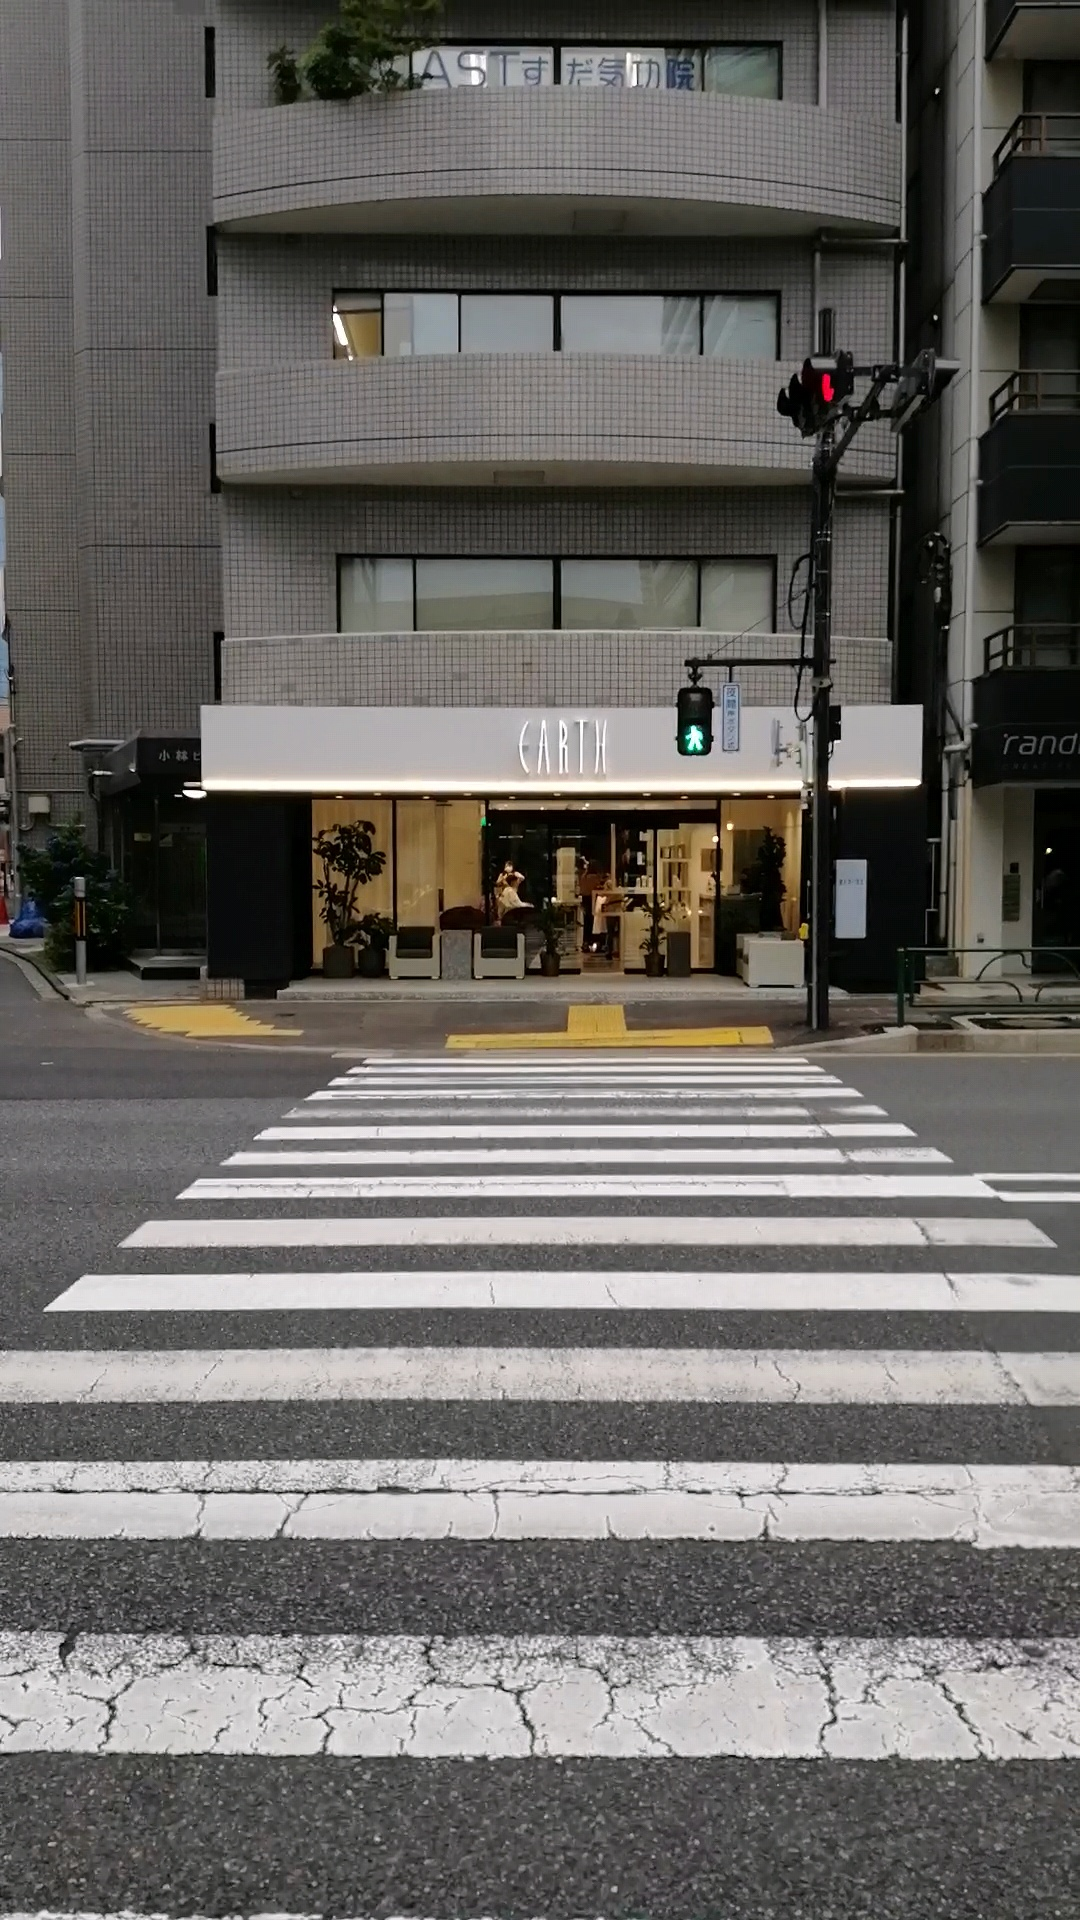green: (676, 687, 713, 756)
